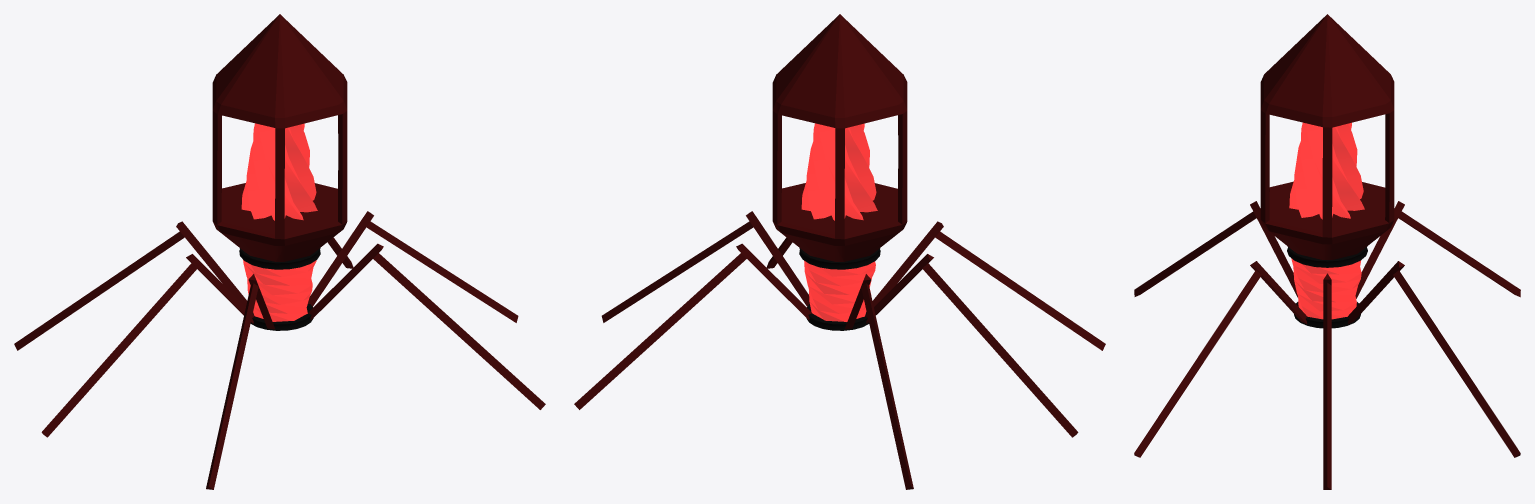
Rendered from Malware.fbx.
The picture shows the model from 3 angles, left to right: view 1: azimuth 30°, elevation 25°; view 2: azimuth 150°, elevation 25°; view 3: azimuth 270°, elevation 25°; orthographic projection.
Parts seen in each view (by area): view 1: Malware; view 2: Malware; view 3: Malware.
Part boxes in pixels (x1,y1,x2,y2): Malware: [14, 14, 545, 489]; Malware: [574, 14, 1105, 489]; Malware: [1134, 14, 1520, 489].
Bounding box in the file's own units: 7.08 × 5.18 × 5.01.
